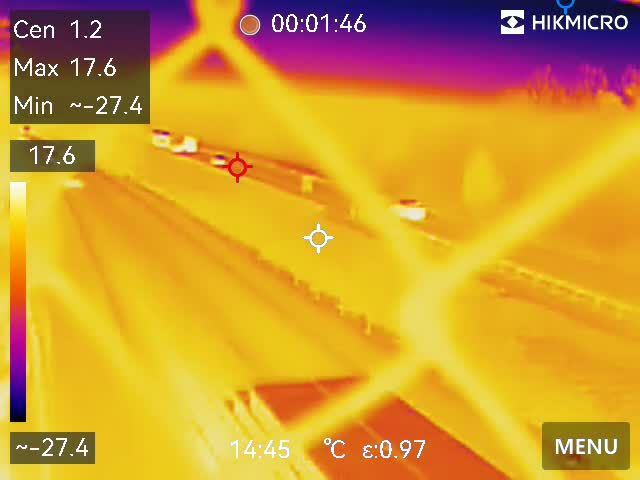vehicle: (383, 195, 434, 220)
